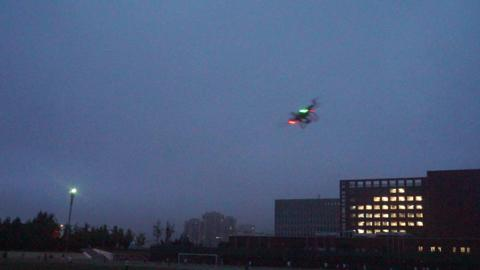UAV: (278, 96, 320, 129)
